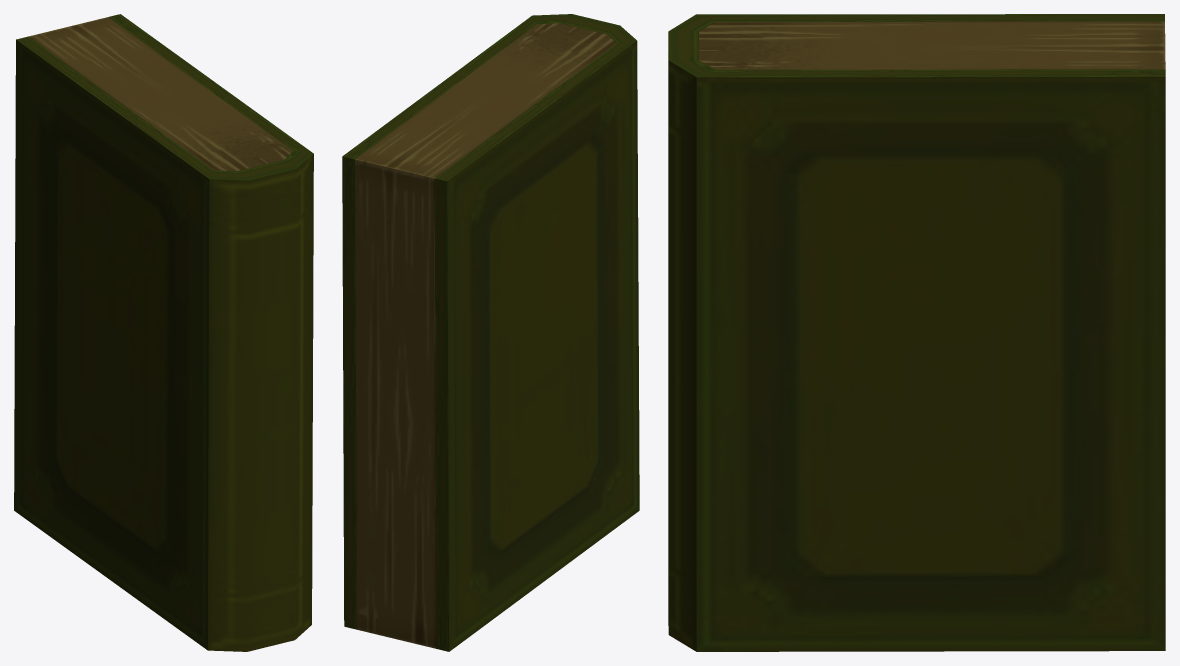
File: prop_book_simplified_single.glb
3 views of the same model, side by side, from view 1: azimuth 30°, elevation 25°; view 2: azimuth 150°, elevation 25°; view 3: azimuth 270°, elevation 25° (orthographic). The views are drawn at different scales.
Parts seen in each view (by area): view 1: Book_Simplified_Single; view 2: Book_Simplified_Single; view 3: Book_Simplified_Single.
Boxes of the visible parts, x1,y1,x2,y2 form: Book_Simplified_Single: (14, 14, 313, 651); Book_Simplified_Single: (342, 14, 639, 651); Book_Simplified_Single: (668, 14, 1165, 651).
Size of the model in its own units: 0.0646 by 0.2683 by 0.21.
1 material, 1 textured.
